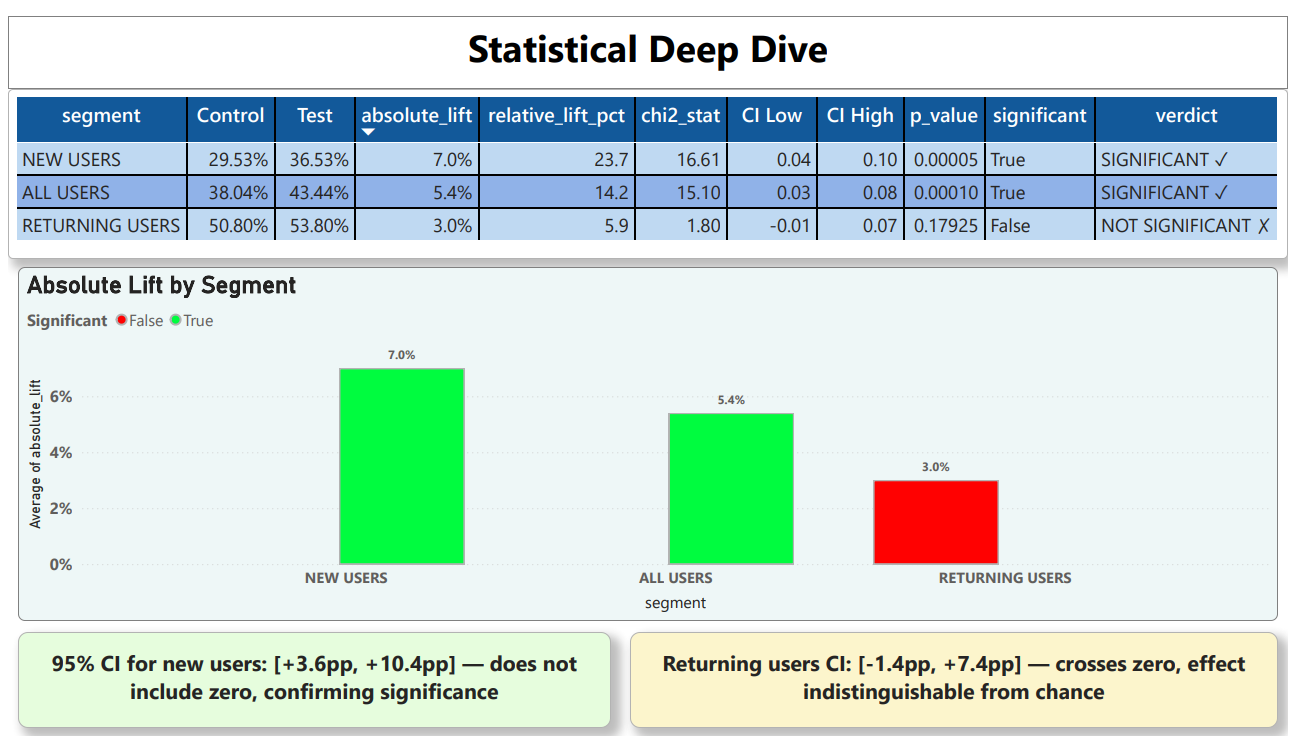

What the dashboard file says about the page in this screenshot:
{"tool":"powerbi","page":{"name":"Statistical Deep Dive","canvas":[1280,720],"ordinal":1},"visuals":[{"type":"tableEx","fields":{"Values":["StatsResults.segment","StatsResults.retention_ctrl","StatsResults.retention_test","StatsResults.absolute_lift","StatsResults.relative_lift_pct","StatsResults.chi2_stat","StatsResults.ci_95_low","StatsResults.ci_95_high","StatsResults.p_value","StatsResults.significant","StatsResults.verdict"]},"box":[0,72.5,1280,170],"z":0},{"type":"textbox","box":[0,0,1280,72.7],"z":1000},{"type":"clusteredColumnChart","title":"Absolute Lift by Segment","fields":{"Category":["StatsResults.segment"],"Y":["Avg(StatsResults.absolute_lift)"],"Series":["StatsResults.significant"]},"box":[10,251.3,1260.1,353.3],"z":2000},{"type":"textbox","box":[10,615.8,593.4,95.8],"z":4000},{"type":"textbox","box":[622,615.8,648.1,95.8],"z":5000}]}

Visuals, with their boxes on the page's 1280x720 design canvas (x1, y1, x2, y2). These are canvas units, not pixel positions in the 1293x750 screenshot, which may show the page scaled, cropped or inside an application window:
tableEx - StatsResults.segment x StatsResults.retention_ctrl: bbox=[0, 72, 1280, 242]
textbox: bbox=[0, 0, 1280, 73]
"Absolute Lift by Segment" clusteredColumnChart: bbox=[10, 251, 1270, 605]
textbox: bbox=[10, 616, 603, 712]
textbox: bbox=[622, 616, 1270, 712]
